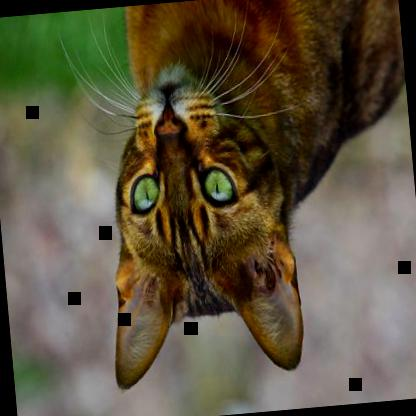cat: (83, 0, 415, 392)
